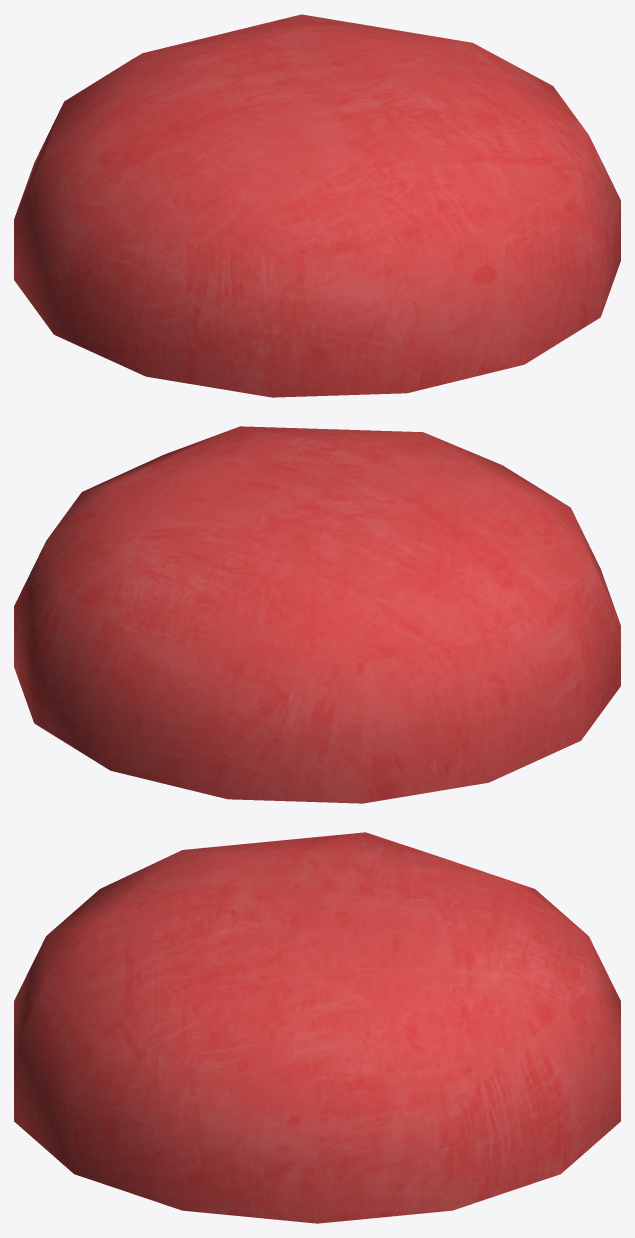
The model's file is magnet_lp.FBX.
3 views of the same model, one above another, from view 1: azimuth 30°, elevation 25°; view 2: azimuth 150°, elevation 25°; view 3: azimuth 270°, elevation 25° (orthographic). The views are drawn at different scales.
Parts seen in each view (by area): view 1: magnet_lp; view 2: magnet_lp; view 3: magnet_lp.
Part boxes in pixels (x1=…): magnet_lp: x1=14, y1=14, x2=620, y2=397; magnet_lp: x1=14, y1=426, x2=620, y2=803; magnet_lp: x1=14, y1=832, x2=620, y2=1223.
Size of the model in its own units: 1.56 by 0.5375 by 1.52.
Materials: 1 (1 with a texture image).
